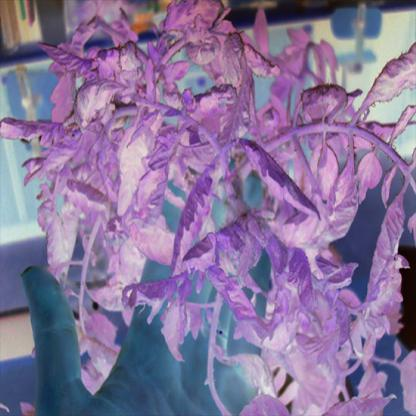tomato leaf mosaic virus: (234, 133, 318, 218), (172, 152, 223, 273), (206, 266, 262, 324), (135, 143, 169, 231), (354, 150, 386, 203), (241, 43, 281, 81)
